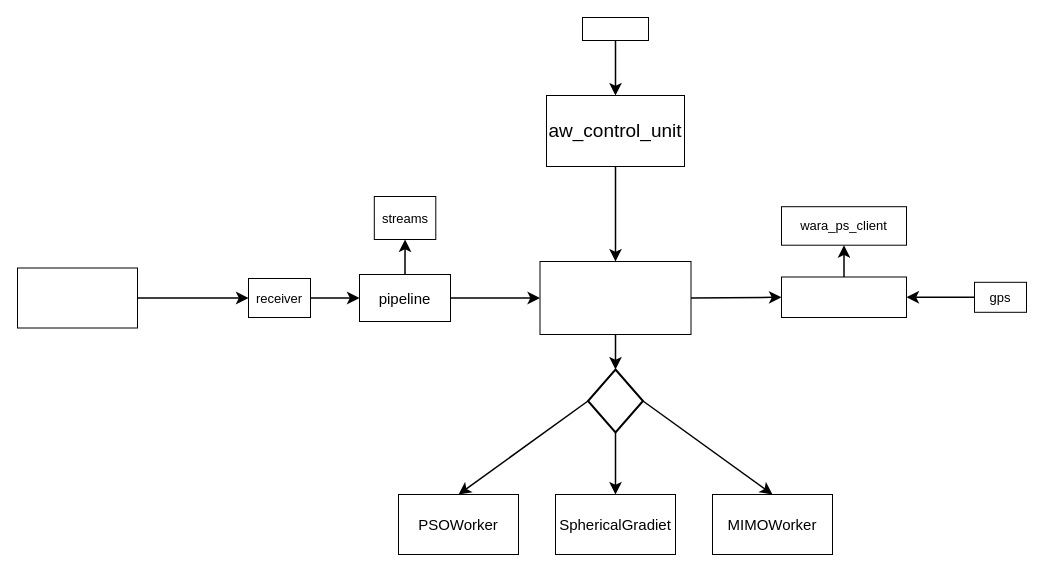
The diagram is 1044 pixels wide and 572 high, and some of its shapes have lost their labels. Here are the shapes that lost their labels. From the top down, the centre of each, then its label:
(615,28): main
(77,297): FPGA
(615,297): aw_processing_unit
(843,297): target_handler
